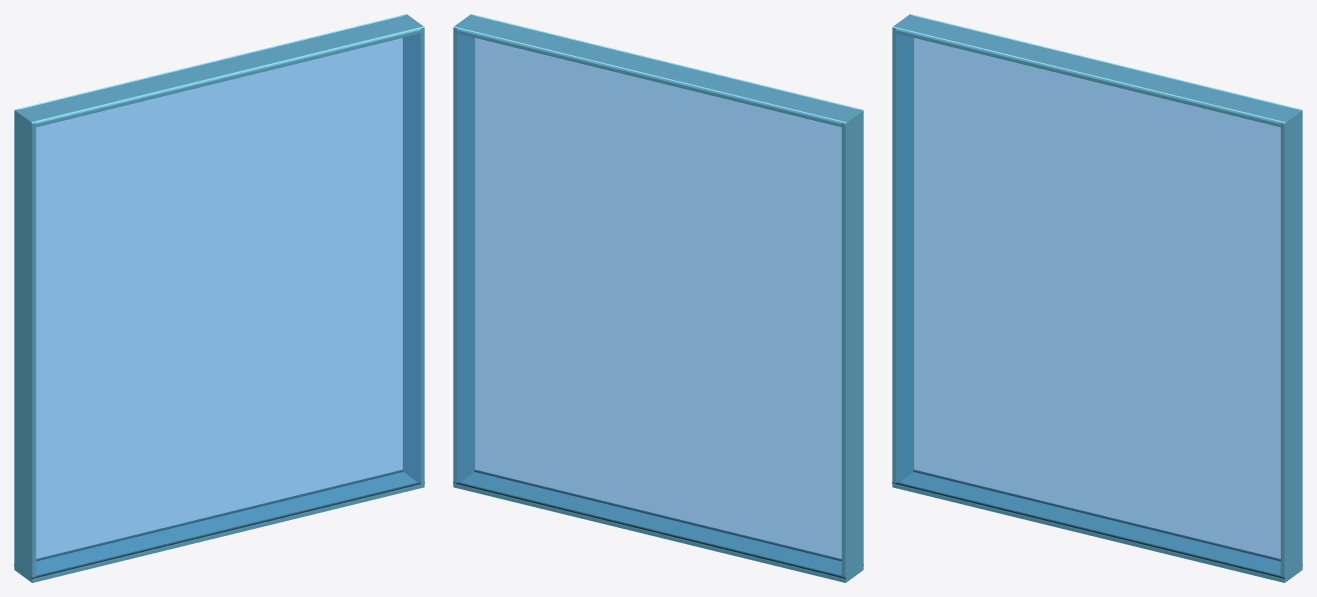
Rendered from SM_VR_Wall_RackToCorridorA.fbx.
3 renders of one model, left to right at view 1: azimuth 30°, elevation 25°; view 2: azimuth 150°, elevation 25°; view 3: azimuth 330°, elevation 25°, orthographic.
Parts seen in each view (by area): view 1: SM_VR_Wall_RackToCorridorA; view 2: SM_VR_Wall_RackToCorridorA; view 3: SM_VR_Wall_RackToCorridorA.
Boxes of the visible parts, x1,y1,x2,y2 form: SM_VR_Wall_RackToCorridorA: (14, 14, 424, 582); SM_VR_Wall_RackToCorridorA: (453, 14, 863, 582); SM_VR_Wall_RackToCorridorA: (892, 14, 1302, 582).
Size of the model in its own units: 250 by 20 by 280.
